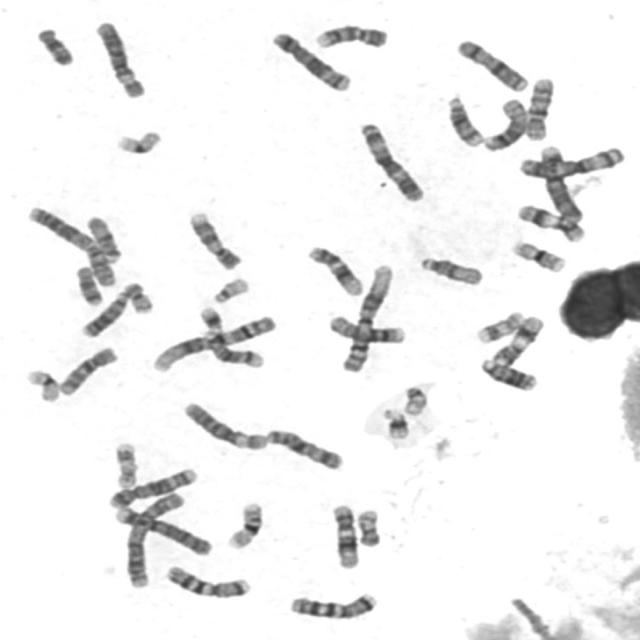A1: (148, 310, 278, 374), (337, 260, 397, 374)
A2: (22, 201, 119, 289), (119, 487, 188, 590)
A3: (354, 118, 426, 203), (514, 142, 628, 180)
B4: (109, 502, 215, 558), (536, 140, 586, 225)
B5: (267, 28, 353, 92), (104, 463, 199, 511)
C10: (54, 343, 120, 397), (522, 73, 556, 142)
C11: (513, 200, 588, 244), (488, 312, 547, 367)
C12: (303, 241, 365, 297), (328, 500, 362, 570)
C6: (179, 397, 270, 452), (90, 16, 148, 100)
C7: (160, 560, 252, 600), (284, 588, 380, 621)
C8: (480, 94, 530, 152), (326, 311, 404, 348)
C9: (184, 207, 244, 271), (310, 20, 391, 50)
D13: (76, 286, 132, 339), (476, 354, 539, 392)
D14: (201, 327, 267, 371), (442, 91, 486, 148)
D15: (416, 252, 486, 288), (82, 212, 124, 264)
E16: (506, 237, 569, 274), (221, 498, 265, 550)
E17: (472, 307, 527, 345), (109, 438, 139, 490)
E18: (32, 22, 76, 67), (70, 261, 106, 308)
F19: (112, 125, 164, 156), (21, 365, 62, 404)
F20: (352, 505, 384, 548), (120, 278, 156, 315)
G21: (378, 404, 412, 441), (195, 302, 226, 334)
G22: (207, 272, 251, 304), (399, 381, 431, 418)
X: (451, 35, 532, 93), (261, 425, 346, 471)
